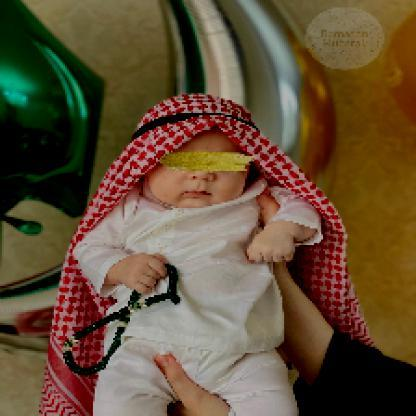child: (72, 94, 325, 416)
